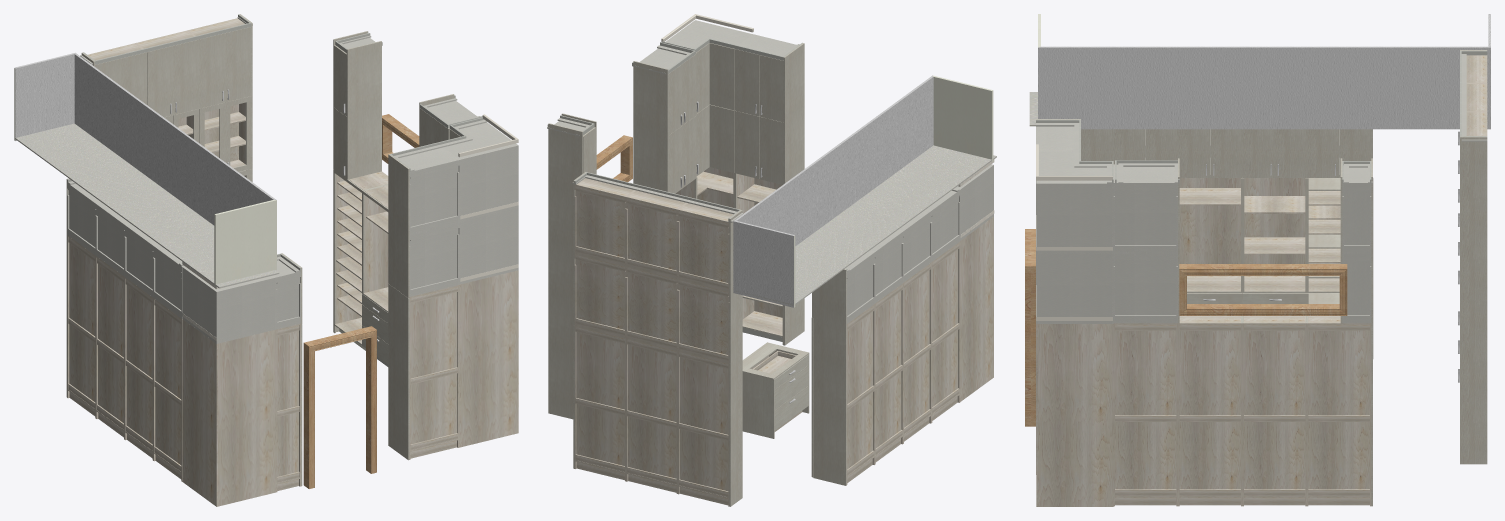
File: master-closet.glb
3 renders of one model, left to right at view 1: azimuth 30°, elevation 25°; view 2: azimuth 150°, elevation 25°; view 3: azimuth 270°, elevation 25°, orthographic. The views are drawn at different scales.
Visible parts, largest first — view 1: master-closet.002, mv_master-closet_003, mv_master-closet_006, mv_master-closet_004, mv_master-closet_005, mv_master-closet_007, mv_master-closet_099, mv_master-closet_098; view 2: master-closet.002, mv_master-closet_012, mv_master-closet_092, mv_master-closet_010, mv_master-closet_095, mv_master-closet_011, mv_master-closet_009, mv_master-closet_015, mv_master-closet_013, mv_master-closet_014, mv_master-closet_016, mv_master-closet_002 (+5 smaller); view 3: master-closet.002, mv_master-closet_020, mv_master-closet_022, mv_master-closet_023, mv_master-closet_025, mv_master-closet_021, mv_master-closet_024, mv_master-closet_018, mv_master-closet_096, mv_master-closet_019, mv_master-closet_034, mv_master-closet_035.
Boxes of the visible parts, x1,y1,x2,y2 form: master-closet.002: [14, 14, 518, 506]; mv_master-closet_003: [225, 27, 251, 102]; mv_master-closet_006: [173, 39, 199, 114]; mv_master-closet_004: [199, 33, 225, 108]; mv_master-closet_005: [147, 46, 173, 117]; mv_master-closet_007: [121, 52, 146, 104]; mv_master-closet_099: [334, 45, 346, 116]; mv_master-closet_098: [334, 108, 346, 178]; master-closet.002: [547, 14, 996, 506]; mv_master-closet_012: [734, 110, 759, 178]; mv_master-closet_092: [709, 104, 734, 172]; mv_master-closet_010: [734, 49, 759, 116]; mv_master-closet_095: [709, 43, 734, 110]; mv_master-closet_011: [759, 116, 783, 184]; mv_master-closet_009: [759, 55, 783, 122]; mv_master-closet_015: [682, 115, 696, 188]; mv_master-closet_013: [668, 64, 682, 135]; mv_master-closet_014: [682, 53, 696, 125]; mv_master-closet_016: [668, 126, 682, 193]; mv_master-closet_002: [753, 351, 808, 389]; master-closet.002: [1025, 14, 1490, 506]; mv_master-closet_020: [1210, 129, 1242, 177]; mv_master-closet_022: [1242, 129, 1274, 177]; mv_master-closet_023: [1274, 129, 1306, 177]; mv_master-closet_025: [1307, 129, 1338, 177]; mv_master-closet_021: [1178, 129, 1209, 177]; mv_master-closet_024: [1339, 129, 1371, 177]; mv_master-closet_018: [1113, 129, 1145, 164]; mv_master-closet_096: [1081, 129, 1113, 160]; mv_master-closet_019: [1146, 129, 1177, 160]; mv_master-closet_034: [1242, 293, 1308, 303]; mv_master-closet_035: [1187, 293, 1242, 303].
Size of the model in its own units: 4.77 by 4.31 by 5.51.
Materials: 10 (9 with a texture image).
